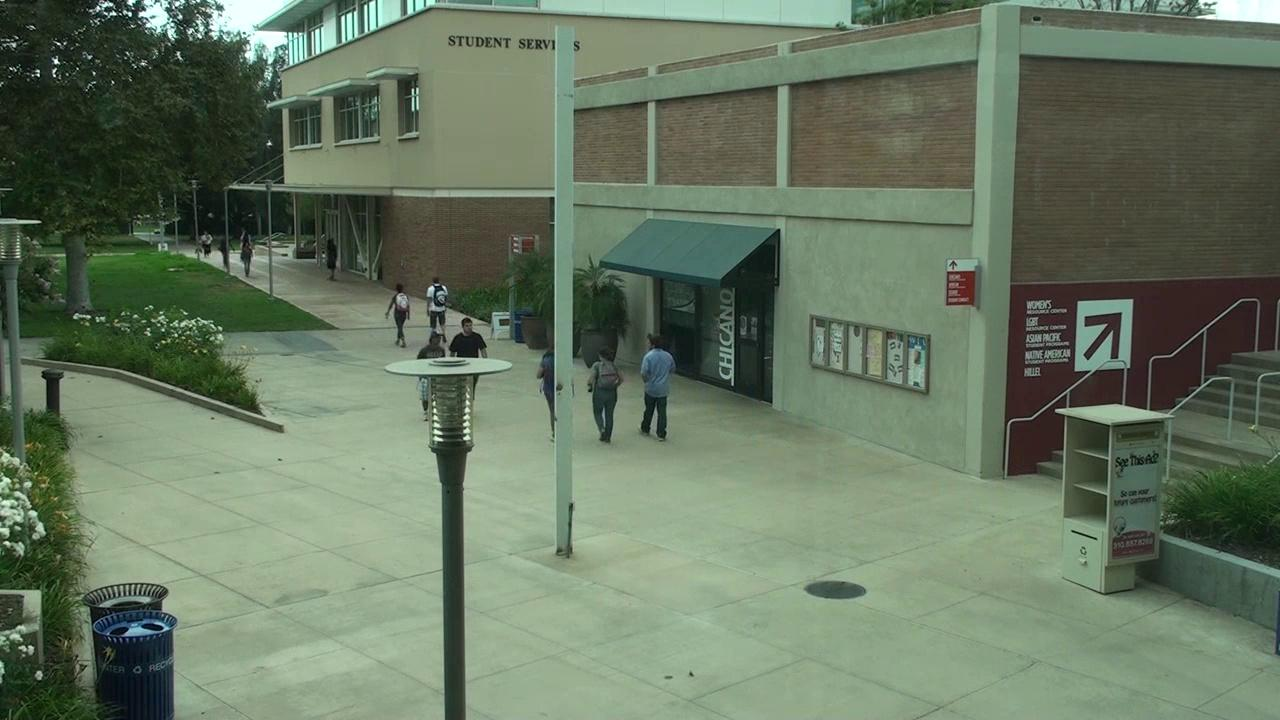person: (640, 336, 674, 440), (587, 349, 623, 442), (536, 346, 563, 439), (386, 284, 410, 346), (450, 317, 487, 356), (429, 277, 447, 333), (417, 328, 446, 358), (419, 379, 430, 418), (550, 366, 551, 368)
